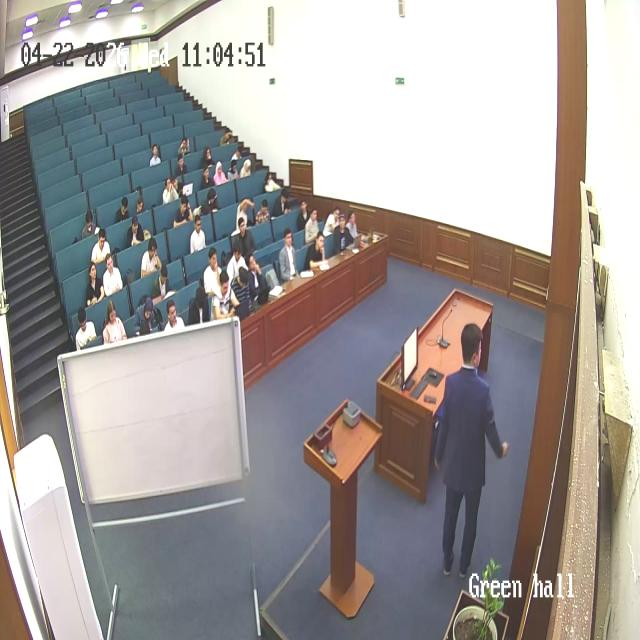person: (434, 322, 510, 578), (247, 252, 273, 305), (210, 273, 238, 321), (230, 264, 254, 318), (277, 228, 299, 282), (234, 213, 256, 263), (102, 303, 128, 344), (132, 296, 157, 338), (203, 246, 223, 298), (102, 252, 124, 298), (187, 284, 211, 326), (75, 305, 97, 350), (332, 212, 354, 257), (307, 229, 329, 271), (86, 262, 106, 308), (226, 239, 245, 287), (140, 238, 162, 279), (91, 225, 112, 267), (162, 299, 185, 333), (152, 264, 172, 303), (190, 214, 208, 253), (322, 204, 342, 238), (236, 196, 256, 230), (173, 193, 193, 227), (304, 204, 320, 246), (126, 216, 146, 249), (347, 211, 364, 247), (201, 185, 219, 217), (161, 174, 179, 206), (274, 190, 292, 219), (295, 200, 311, 231), (255, 197, 272, 226), (171, 168, 188, 197), (114, 195, 130, 223), (82, 208, 96, 239), (214, 160, 228, 187), (201, 165, 215, 191), (134, 188, 147, 216), (263, 171, 279, 193), (149, 143, 162, 168), (238, 158, 252, 180), (175, 152, 187, 177), (202, 146, 214, 170), (219, 128, 234, 146), (227, 160, 239, 182), (178, 136, 190, 156)
